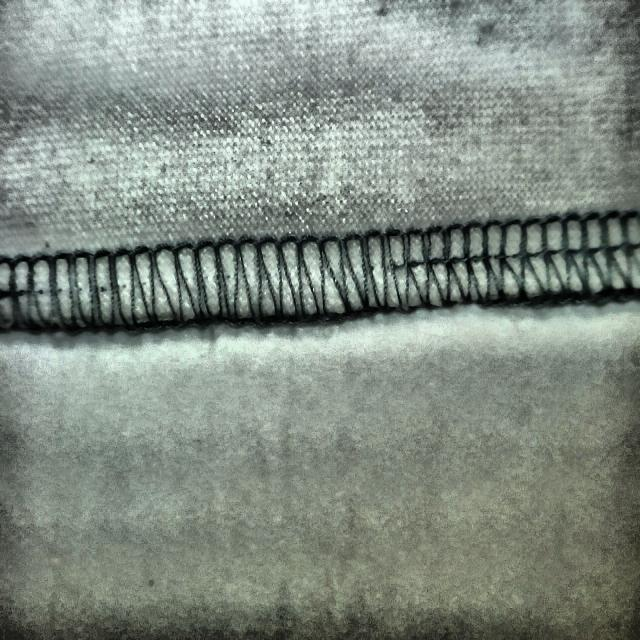Stitch: (234, 209, 640, 323)
